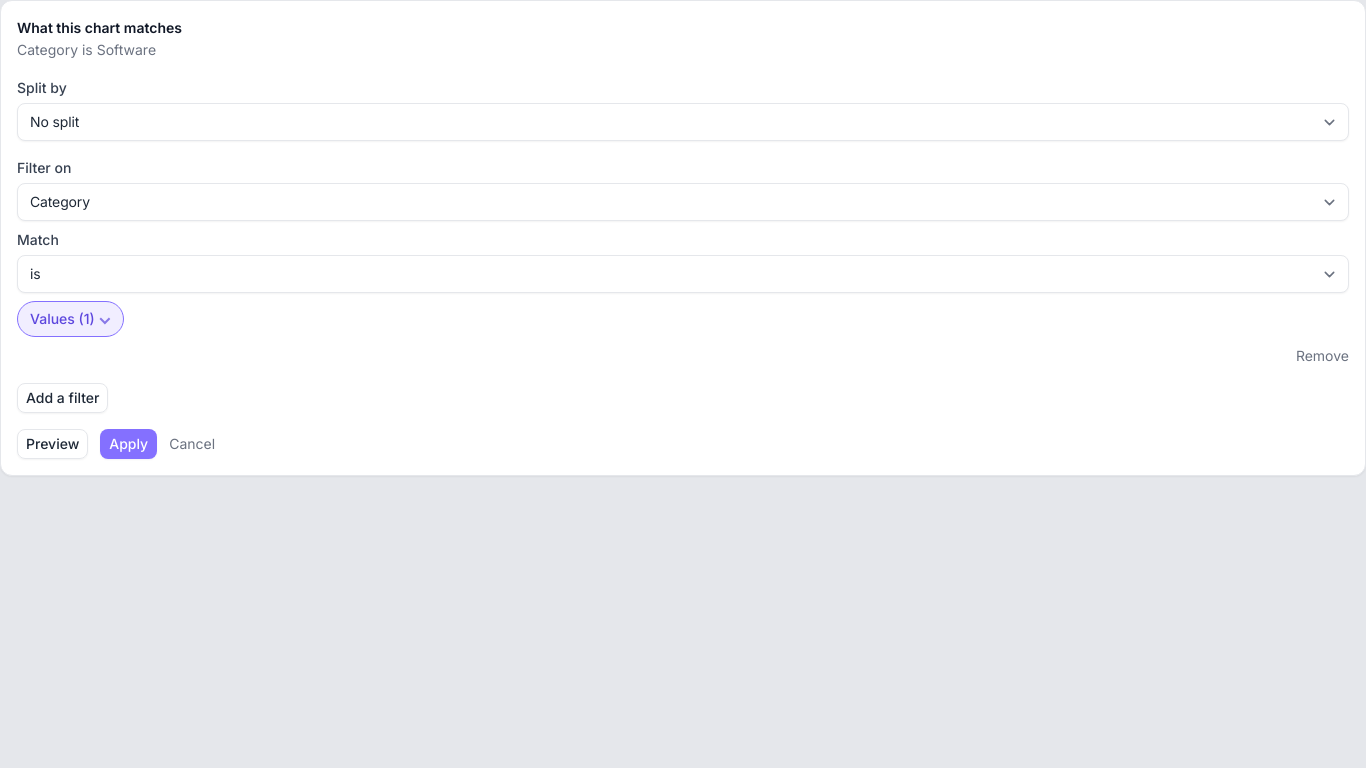
Test: ChartRuleEditor › surfaces an apply error WITHOUT discarding the edited rows
Click the button with test id "rule-add-clause" at (63, 398), box [17,383,108,413]
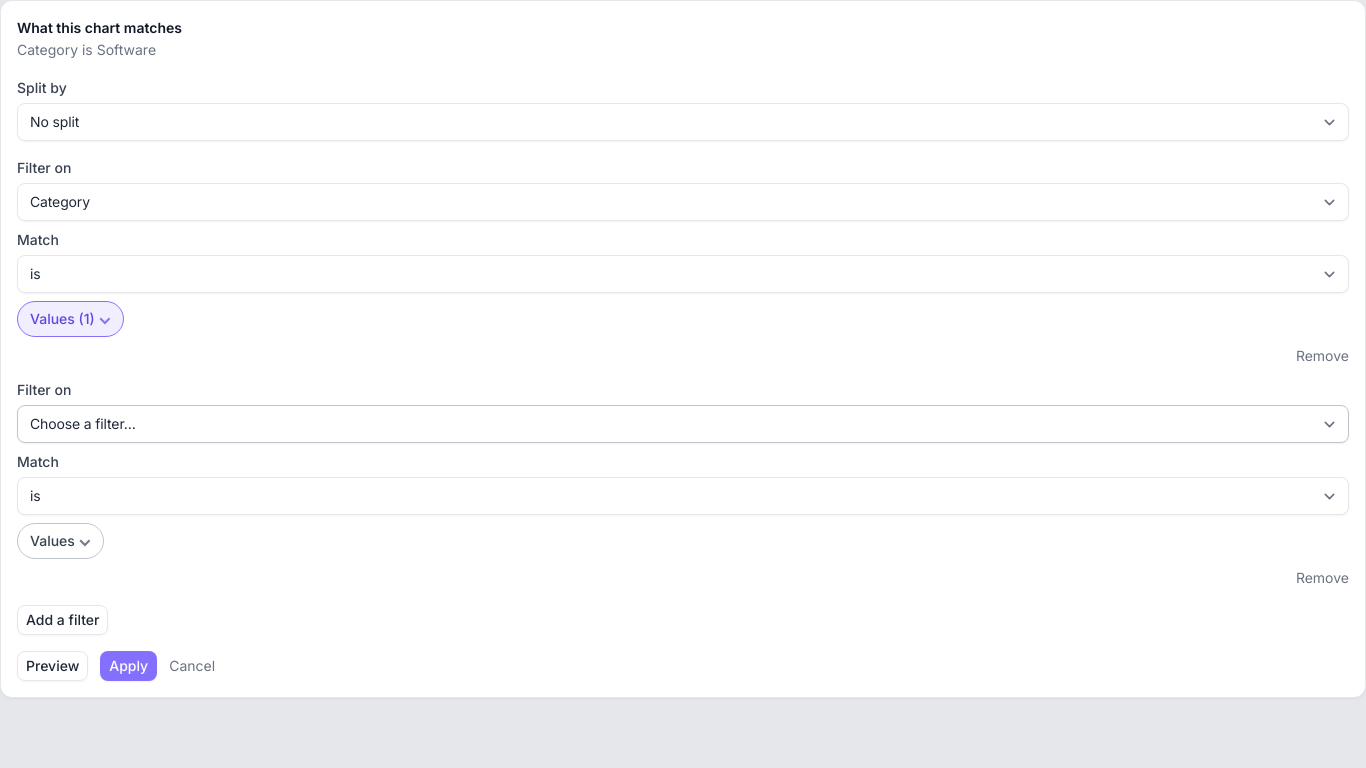
Select "Cost type" in the dropdown with test id "rule-row-1-facet" at (683, 424), box [17,405,1349,443]
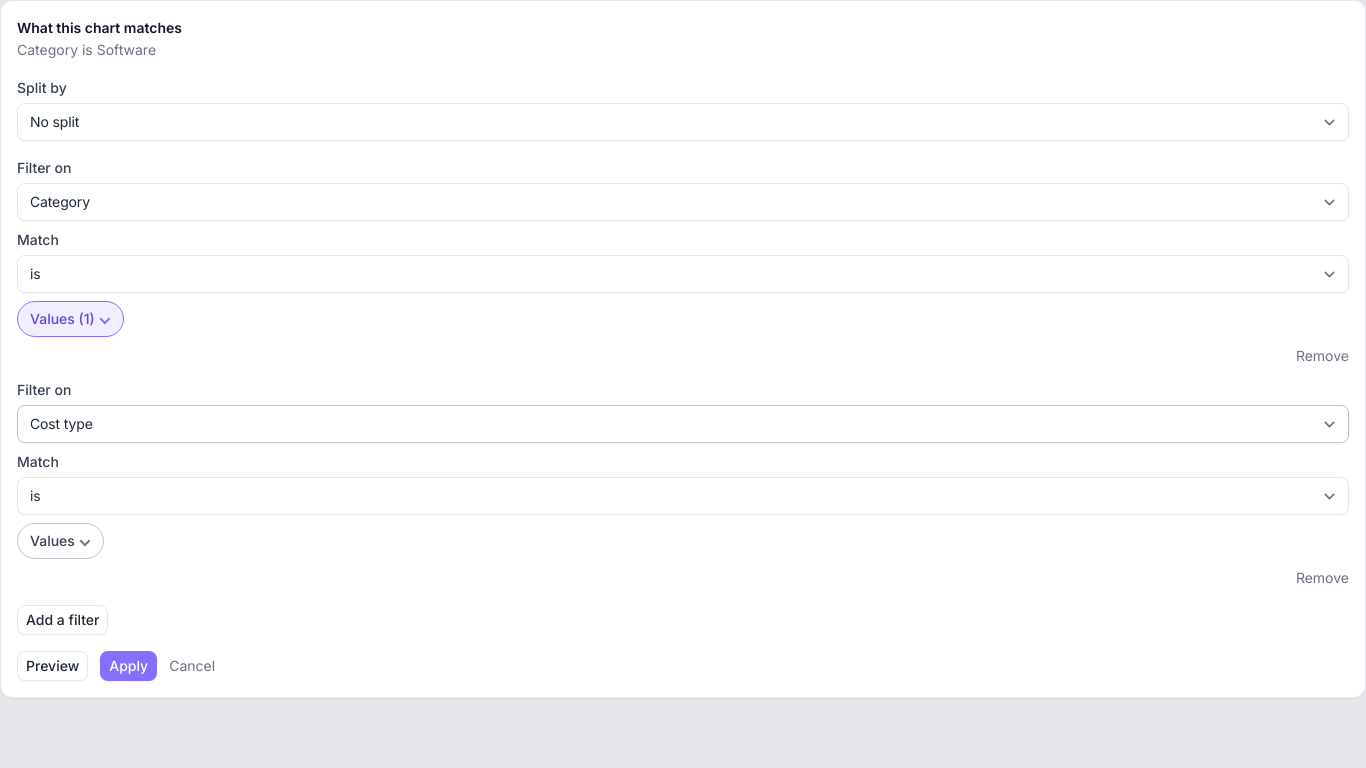
Click the button with test id "rule-editor-apply" at (129, 666), box [100,651,157,681]
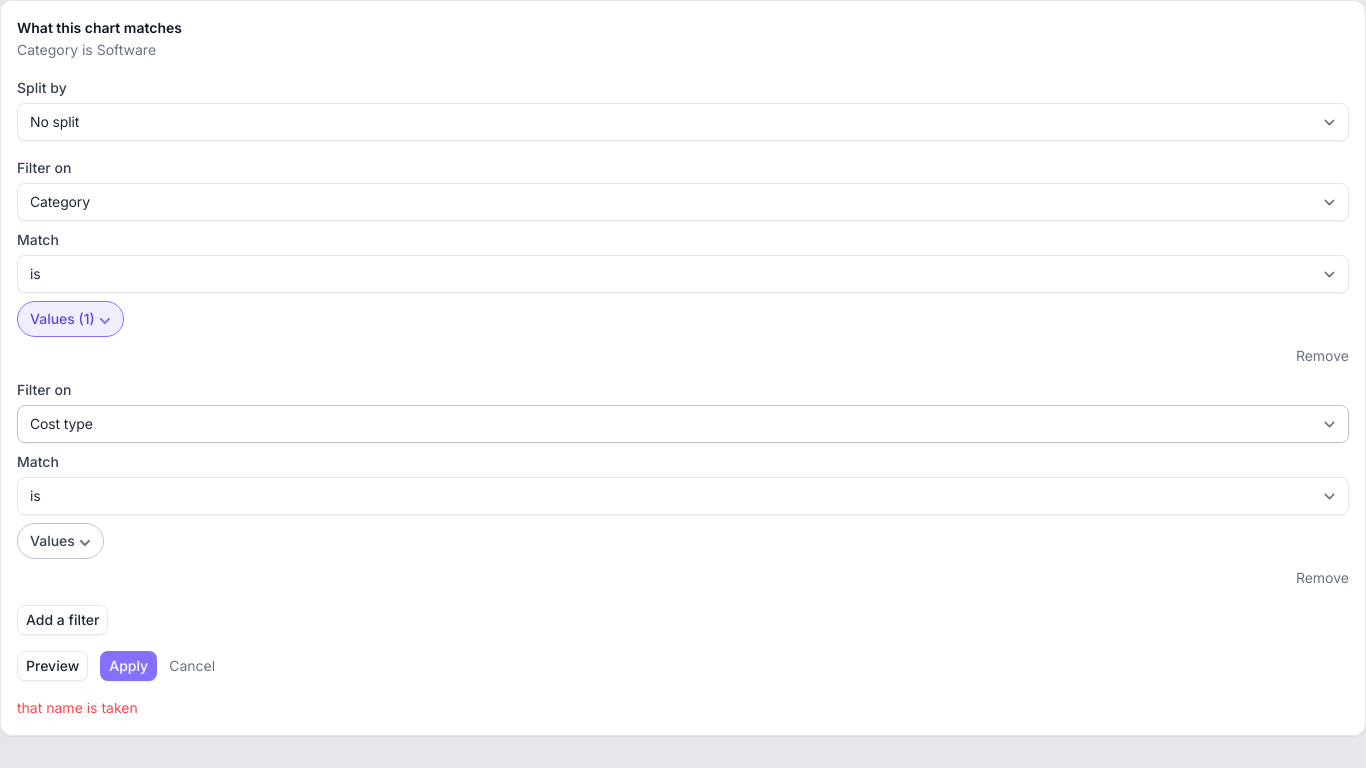
Now the number of list items with test id "rule-editor-row" is 2, box [17,157,1349,367]; [17,379,1349,589]
Now the text with test id "rule-editor-save-error" shows "taken", box [17,699,138,716]
